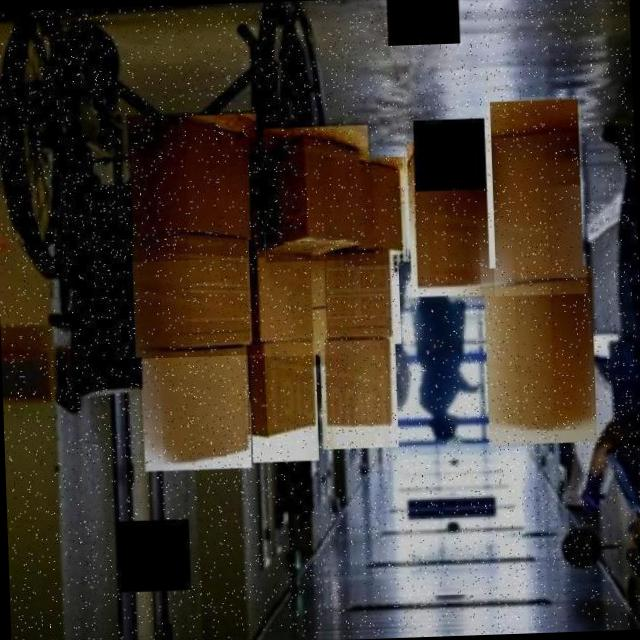box: (481, 260, 600, 448), (126, 110, 264, 262), (488, 95, 588, 296), (260, 120, 375, 262), (130, 236, 262, 358), (140, 338, 254, 472), (405, 136, 493, 298), (318, 318, 401, 451), (244, 243, 336, 357), (248, 333, 320, 464), (316, 250, 403, 347), (339, 154, 411, 266)
